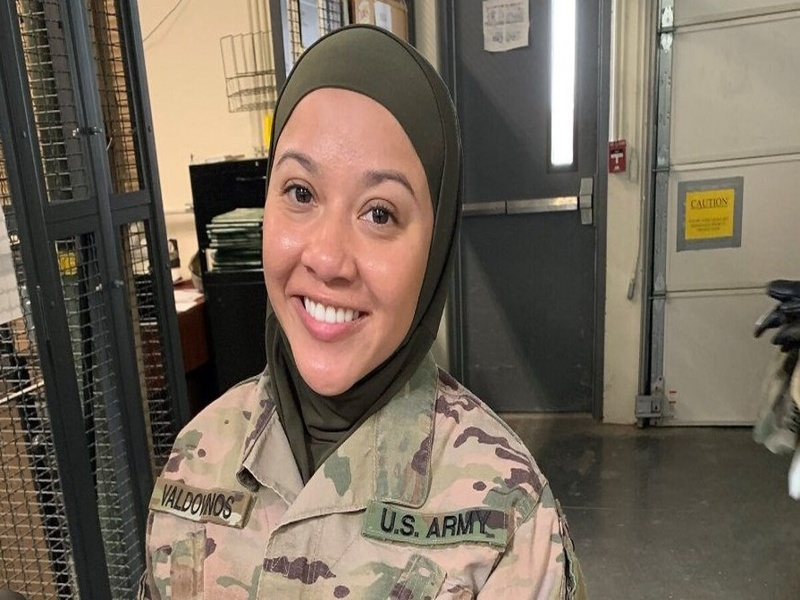face: (275, 108, 417, 371)
